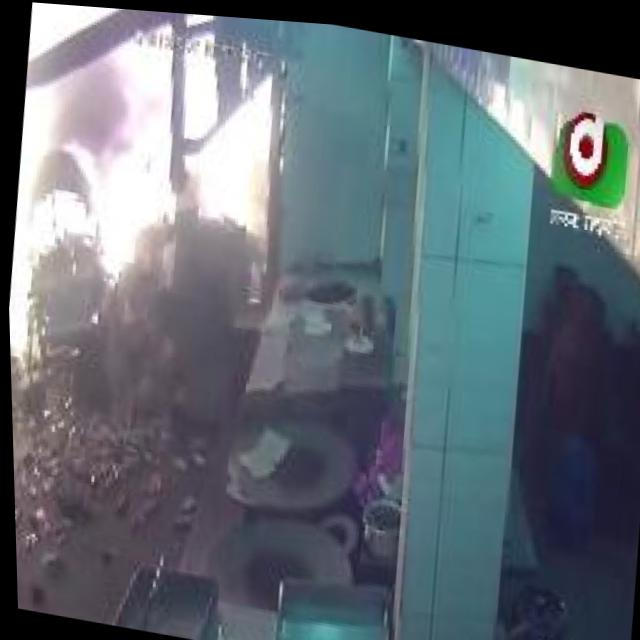fire: (0, 0, 208, 407), (164, 54, 279, 257)
